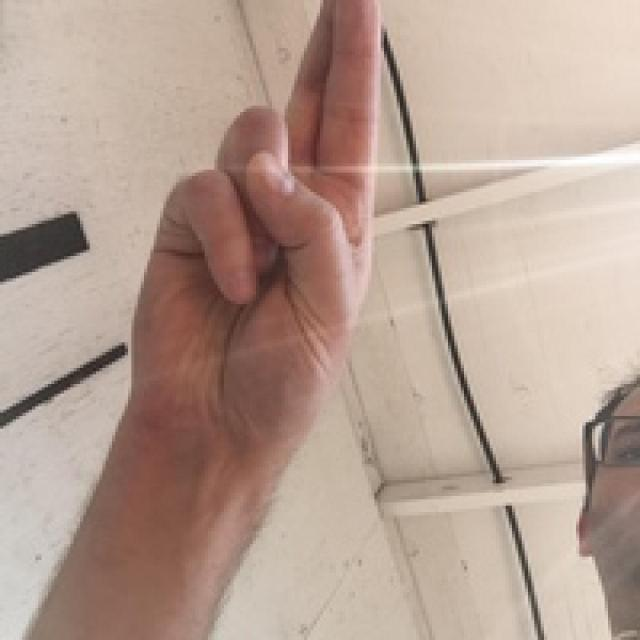R: (98, 0, 429, 499)
